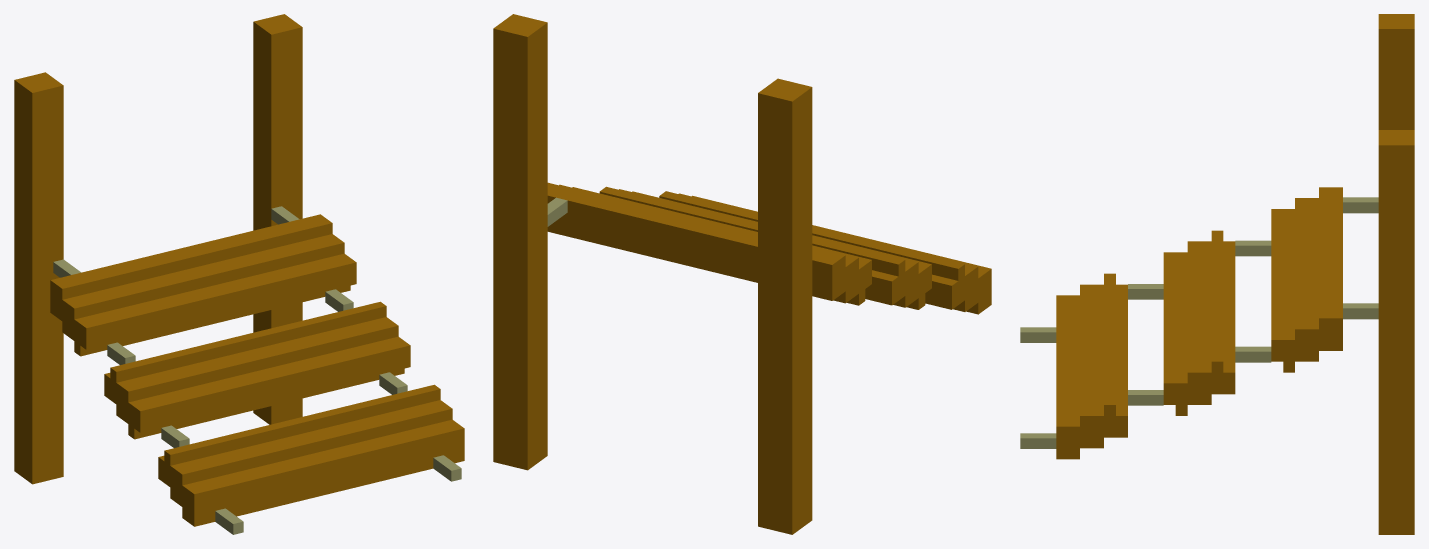
File: ropebridge_end.glb
The picture shows the model from 3 angles, left to right: view 1: azimuth 30°, elevation 25°; view 2: azimuth 150°, elevation 25°; view 3: azimuth 270°, elevation 25°; orthographic projection. The views are drawn at different scales.
Visible parts, largest first — view 1: Untitled; view 2: Untitled; view 3: Untitled.
Boxes of the visible parts, box(x1,y1,x2,y2) form: Untitled: box(14, 14, 464, 534); Untitled: box(493, 14, 991, 534); Untitled: box(1020, 14, 1414, 534).
Size of the model in its own units: 2.6 by 3.6 by 3.3.
1 material, 1 textured.
